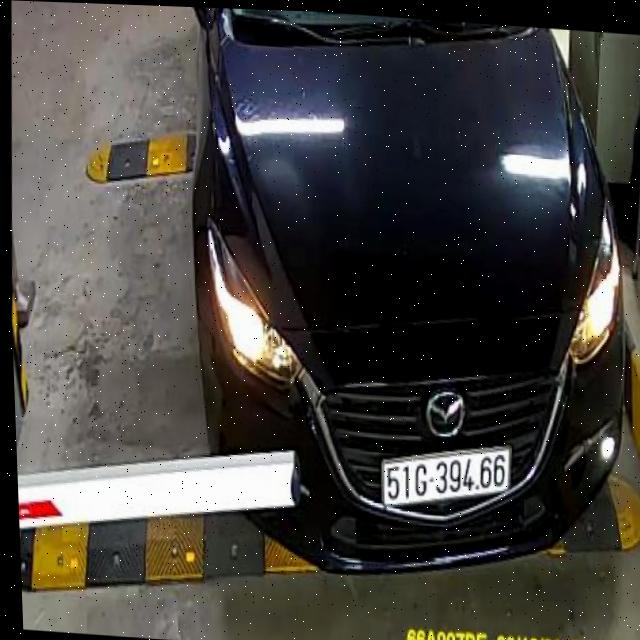car: (158, 6, 640, 600)
plate: (376, 437, 517, 518)
